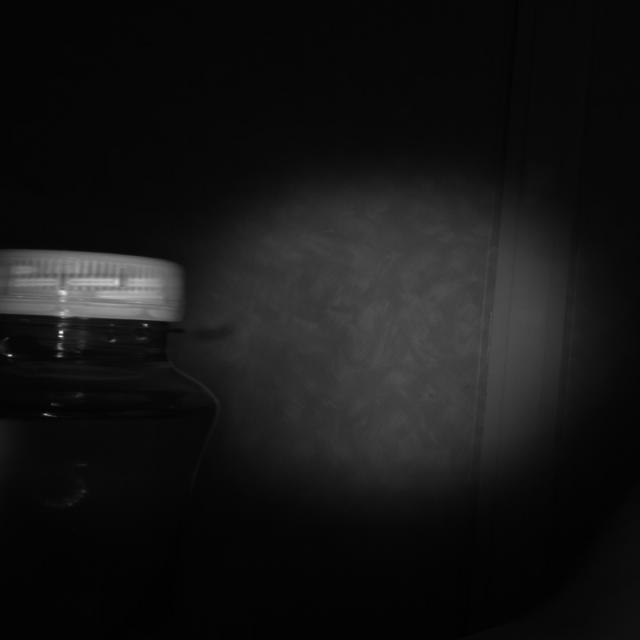Good: (0, 247, 187, 325)
